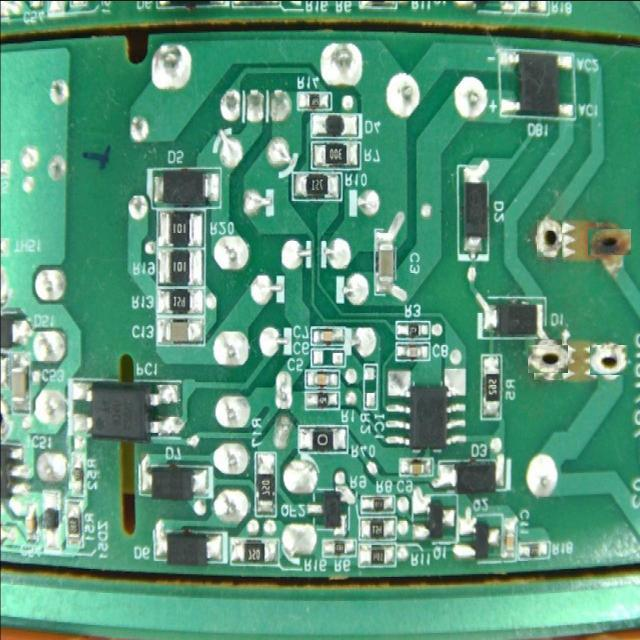damged: (592, 224, 627, 259), (531, 342, 565, 377), (592, 343, 626, 378), (536, 219, 562, 257)
